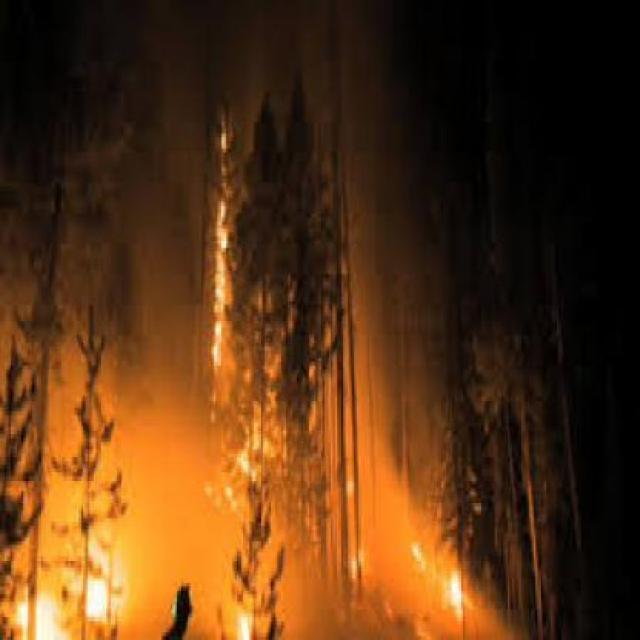Fire: (188, 125, 300, 639), (358, 454, 487, 640), (0, 484, 143, 640)
